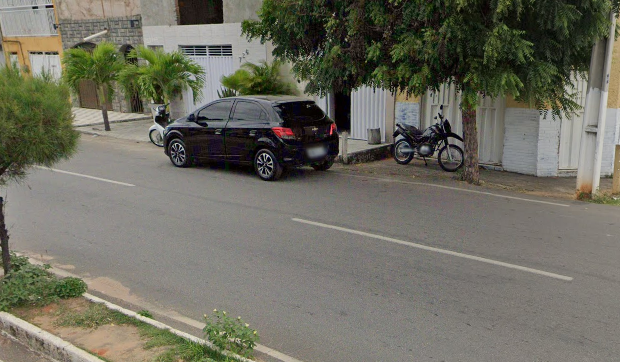car: (160, 89, 343, 193)
